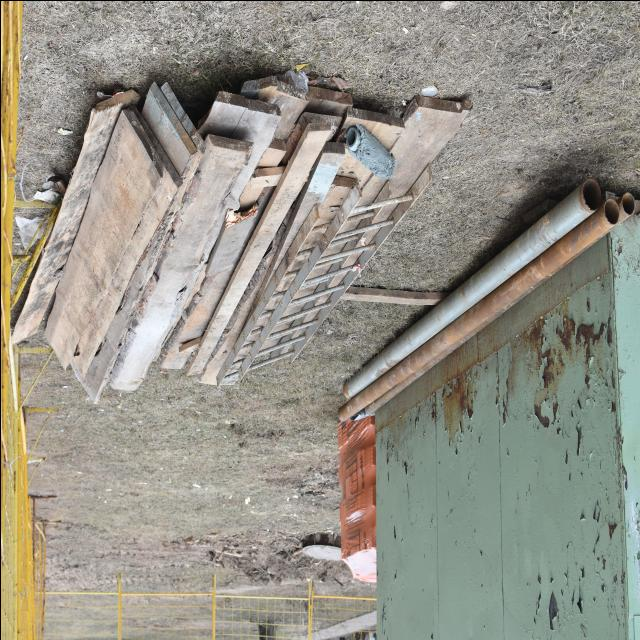entulho: (110, 92, 289, 394), (34, 87, 164, 396), (290, 141, 428, 316), (474, 186, 626, 297), (216, 262, 336, 390), (248, 116, 340, 278), (332, 332, 428, 421), (409, 282, 504, 369), (226, 280, 416, 318), (368, 103, 432, 202), (313, 176, 361, 227)
lixo domiciliar: (419, 84, 438, 96)
terra: (214, 530, 348, 588)
